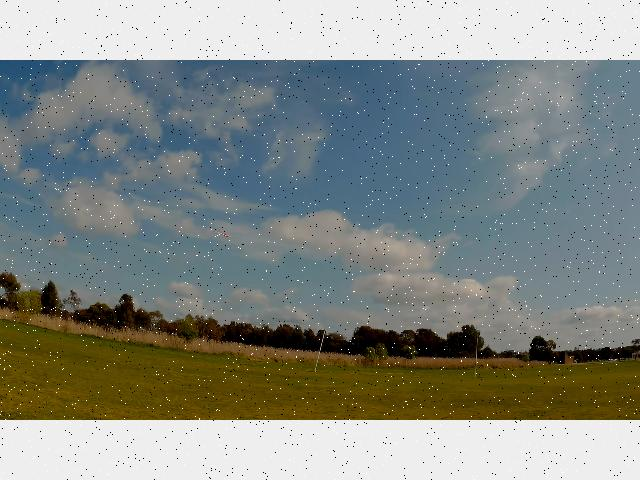Anti-Drone: (214, 230, 236, 239)
